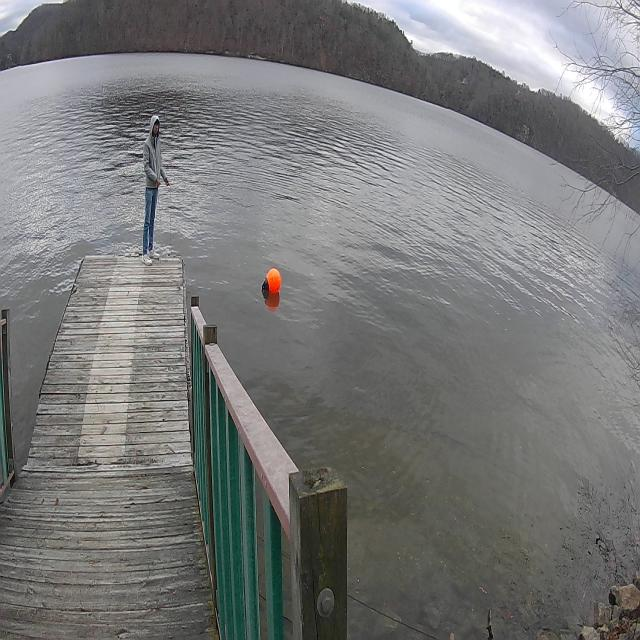Buoy: (262, 265, 284, 303)
